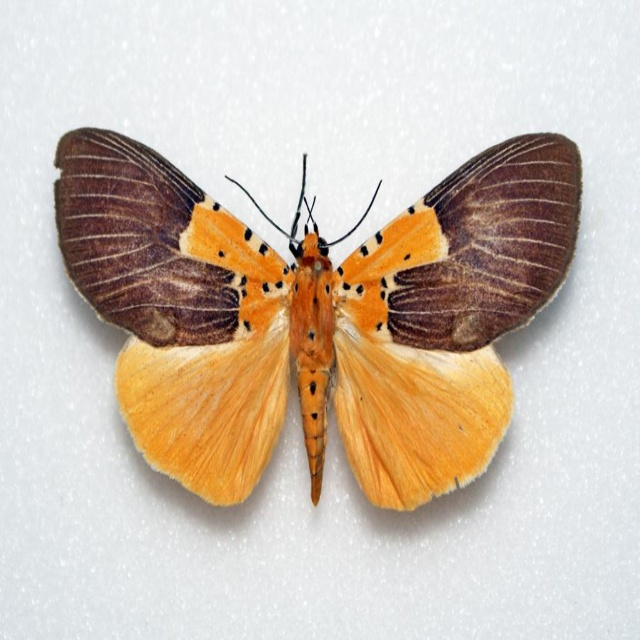Moths and butterflies: (50, 124, 581, 513)
